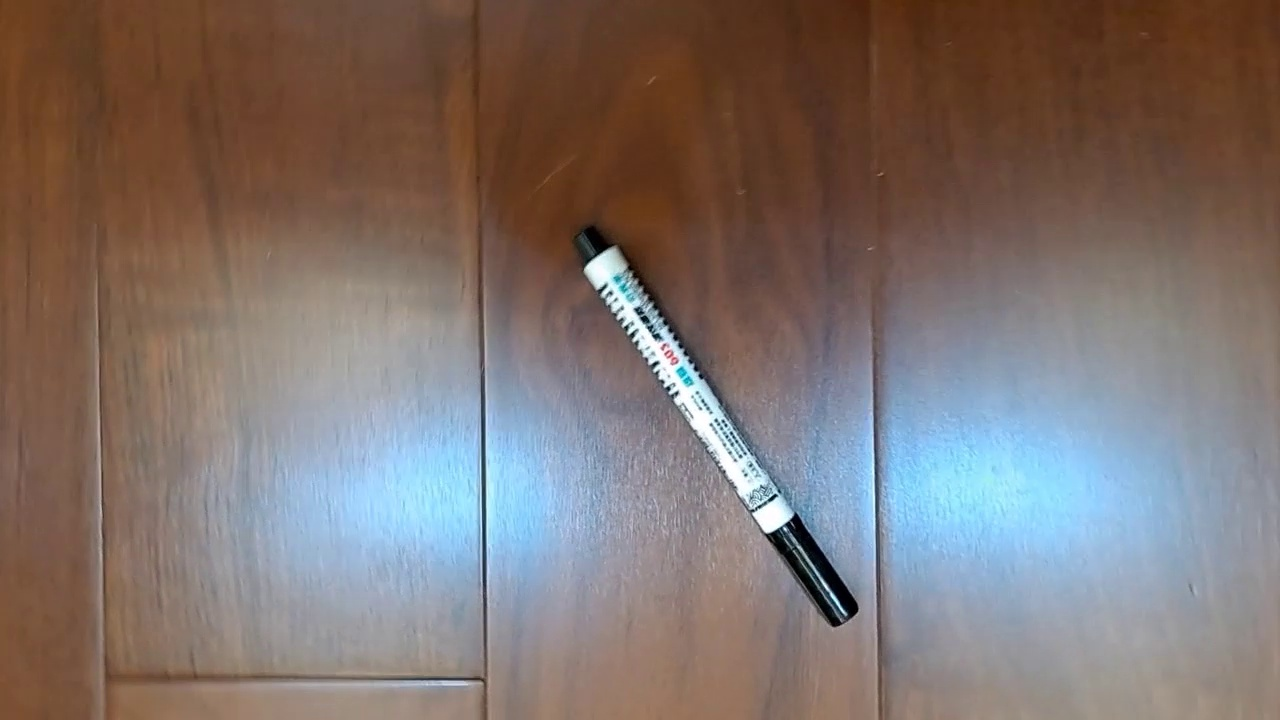pen: (569, 223, 859, 628)
